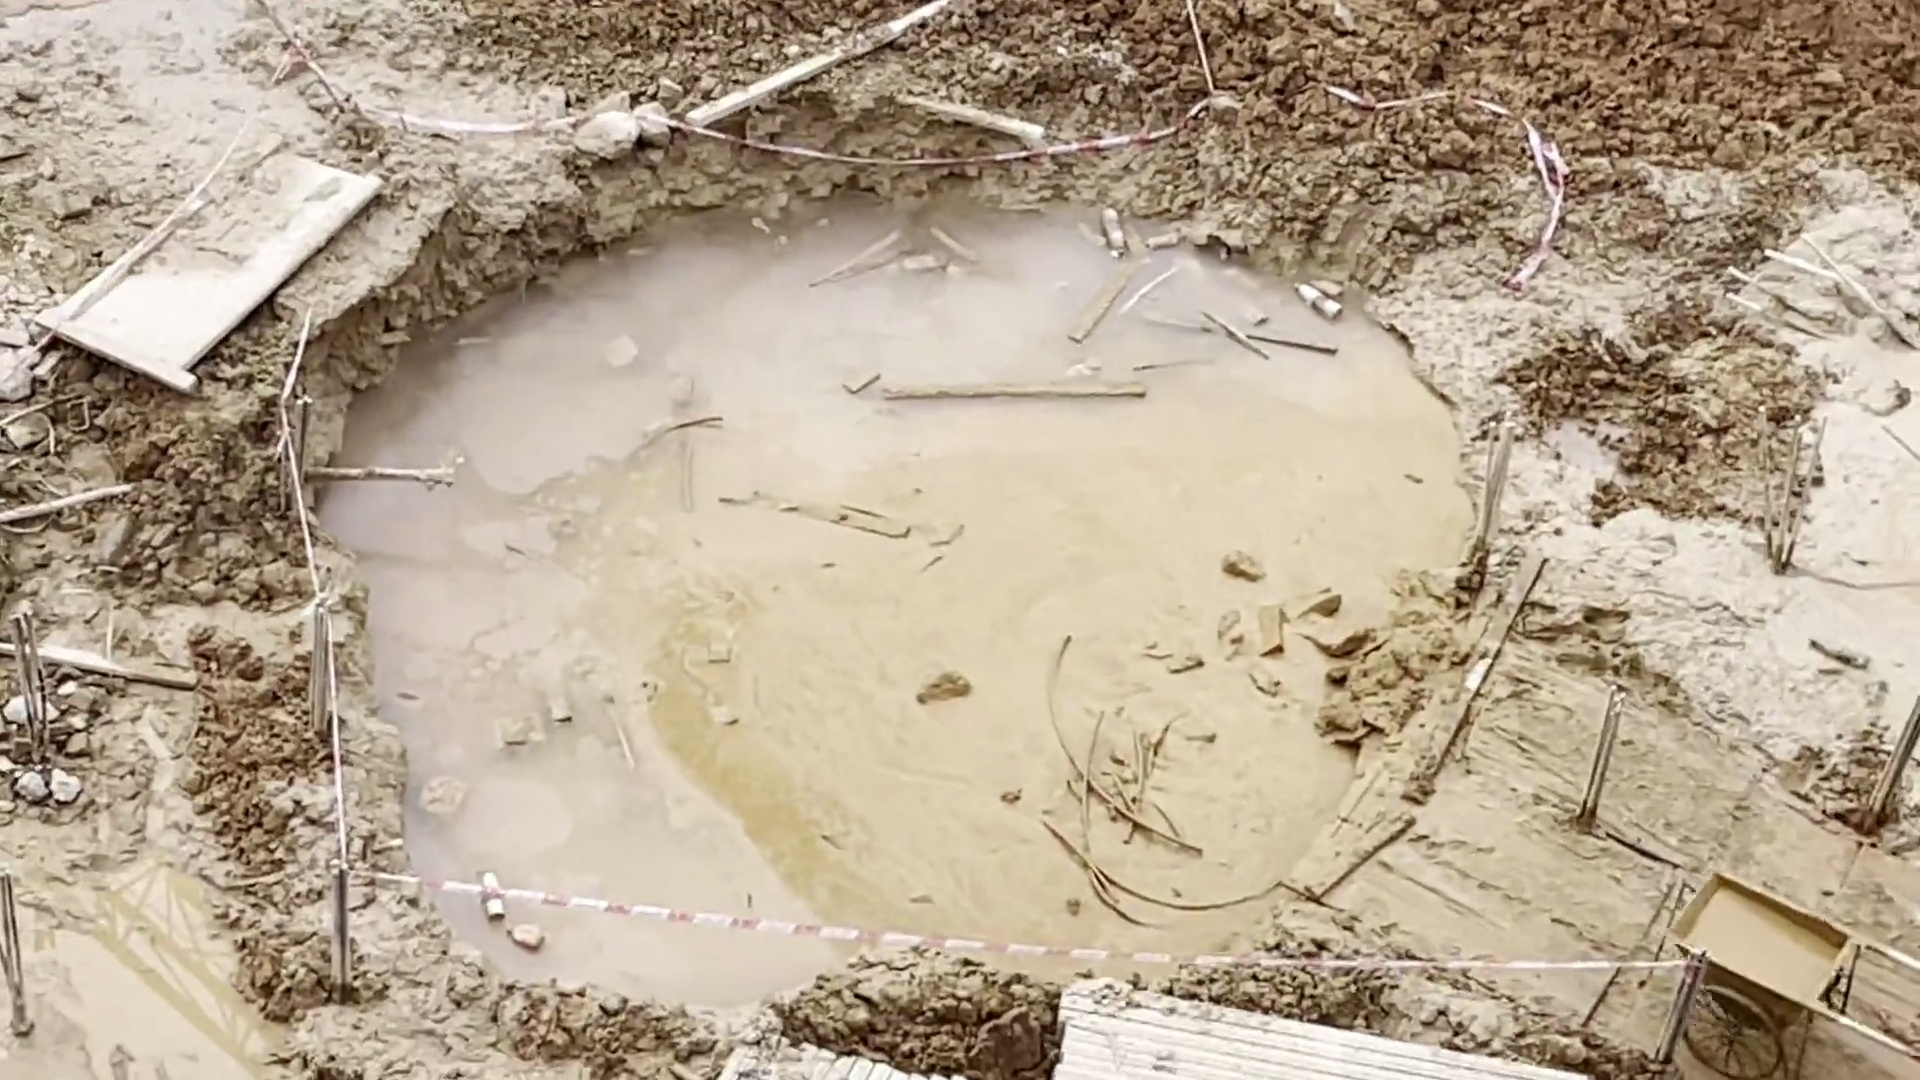handcart: (1660, 866, 1920, 1068)
